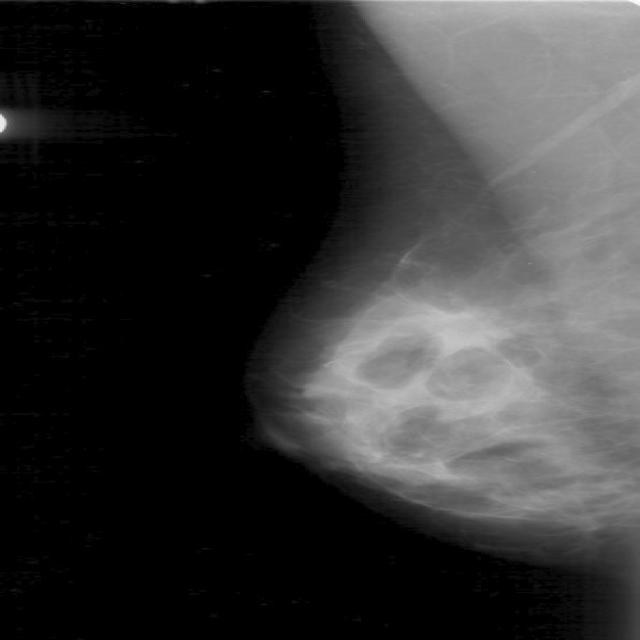tumour: (410, 304, 518, 354)
